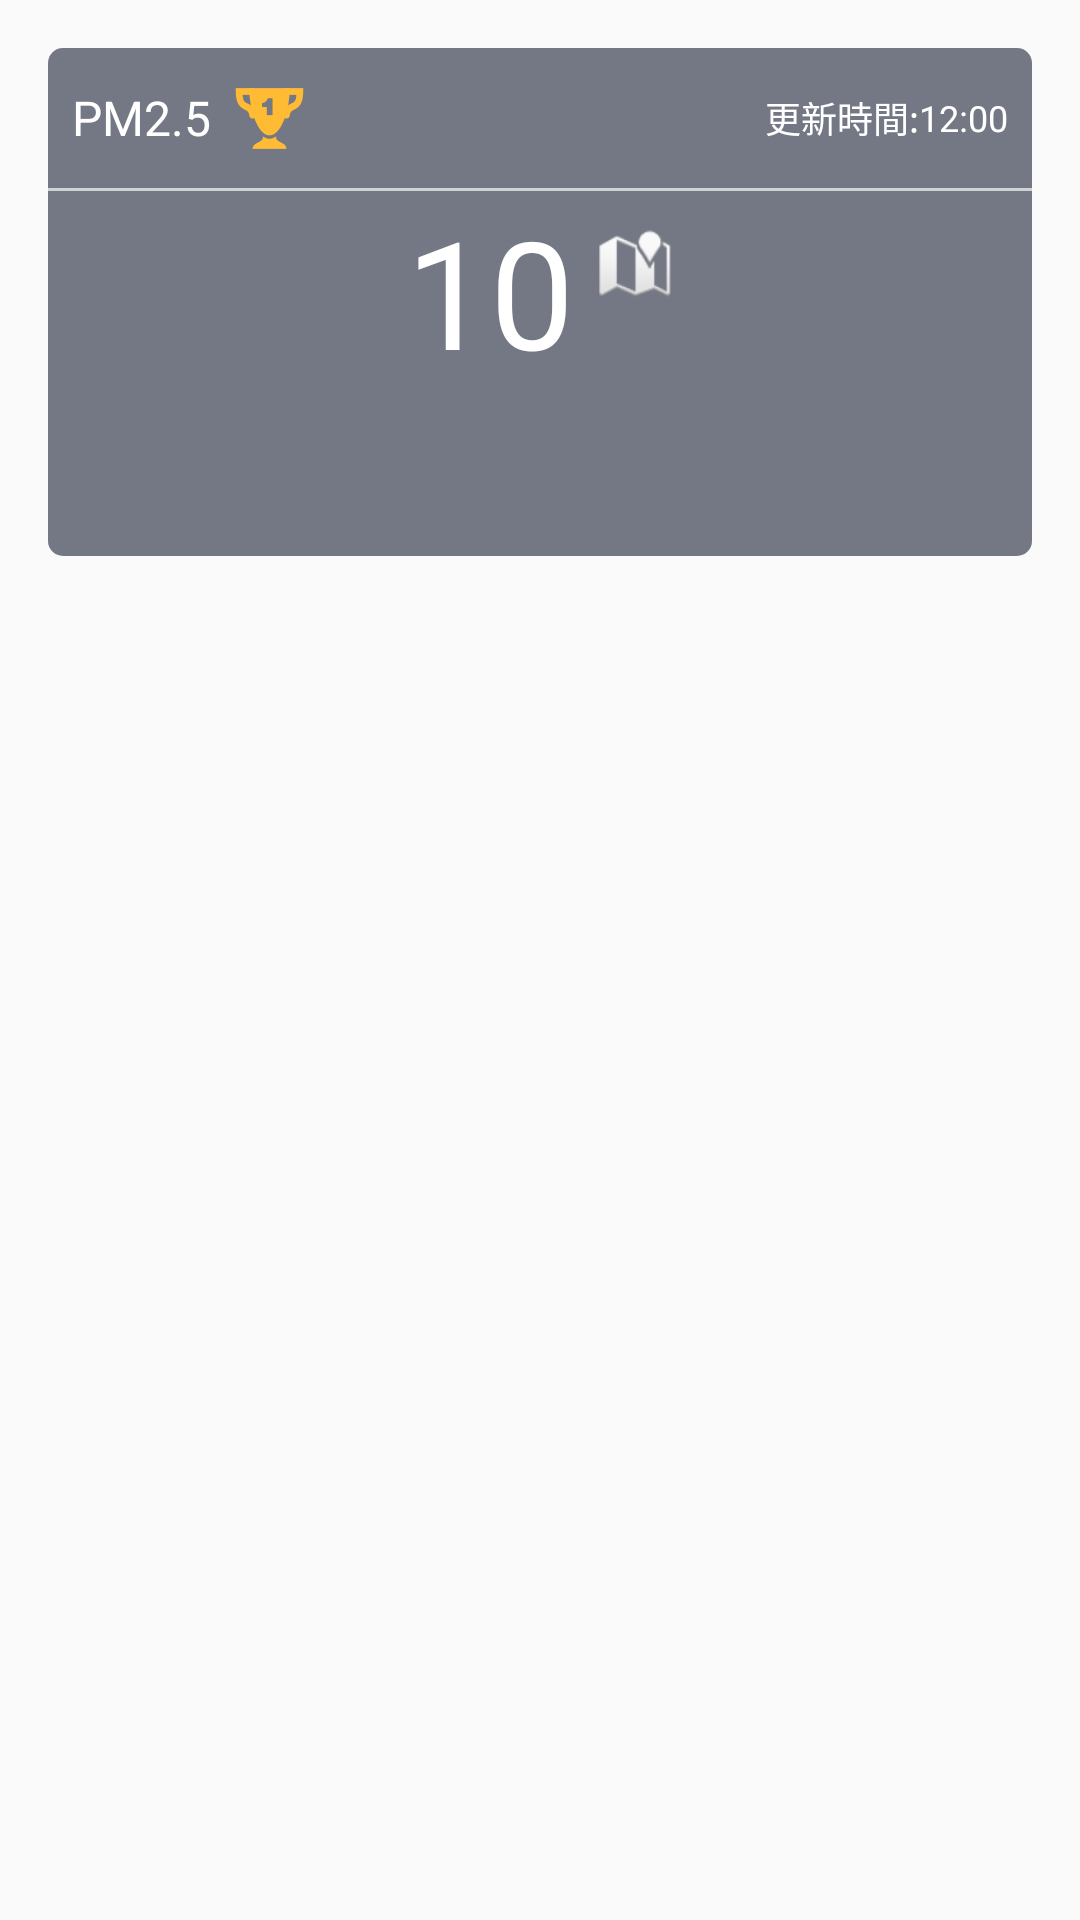

Where icons sit on this 1080*1920 app screen, as (x1=x1, y1=y1, x2=x2, y2=y2):
map: (x1=599, y1=231, x2=671, y2=295)
